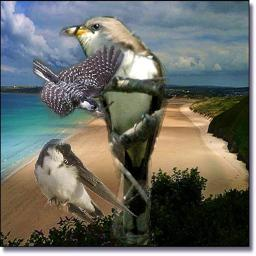Cuckoo: (59, 16, 170, 245)
Swallow: (32, 137, 138, 226)
Woodpecker: (33, 41, 128, 121)
